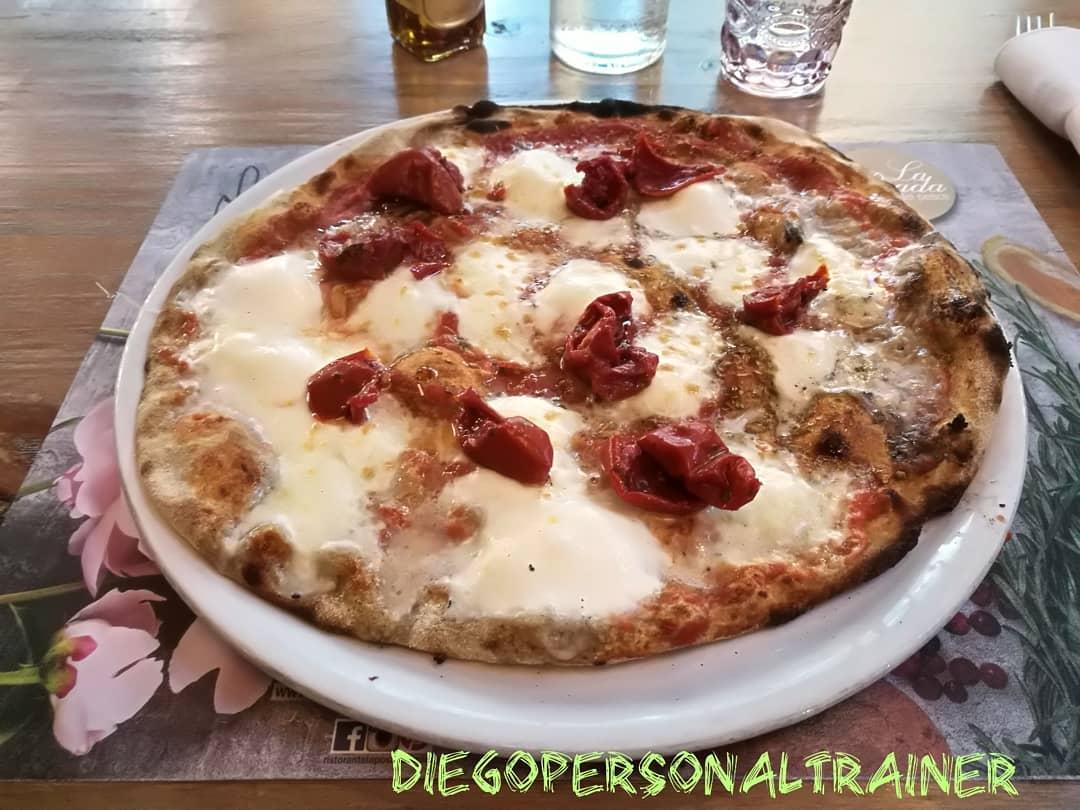Cheese: (201, 271, 394, 544), (471, 476, 647, 604), (371, 248, 577, 354), (588, 188, 747, 287), (476, 148, 574, 257), (748, 453, 847, 554), (648, 318, 734, 420)
Pepperoni: (588, 416, 757, 515), (318, 211, 467, 284), (573, 141, 700, 216), (566, 298, 652, 399), (458, 391, 557, 475), (303, 348, 385, 422), (746, 271, 832, 325), (376, 156, 475, 202)
Pizza: (133, 106, 994, 655)
